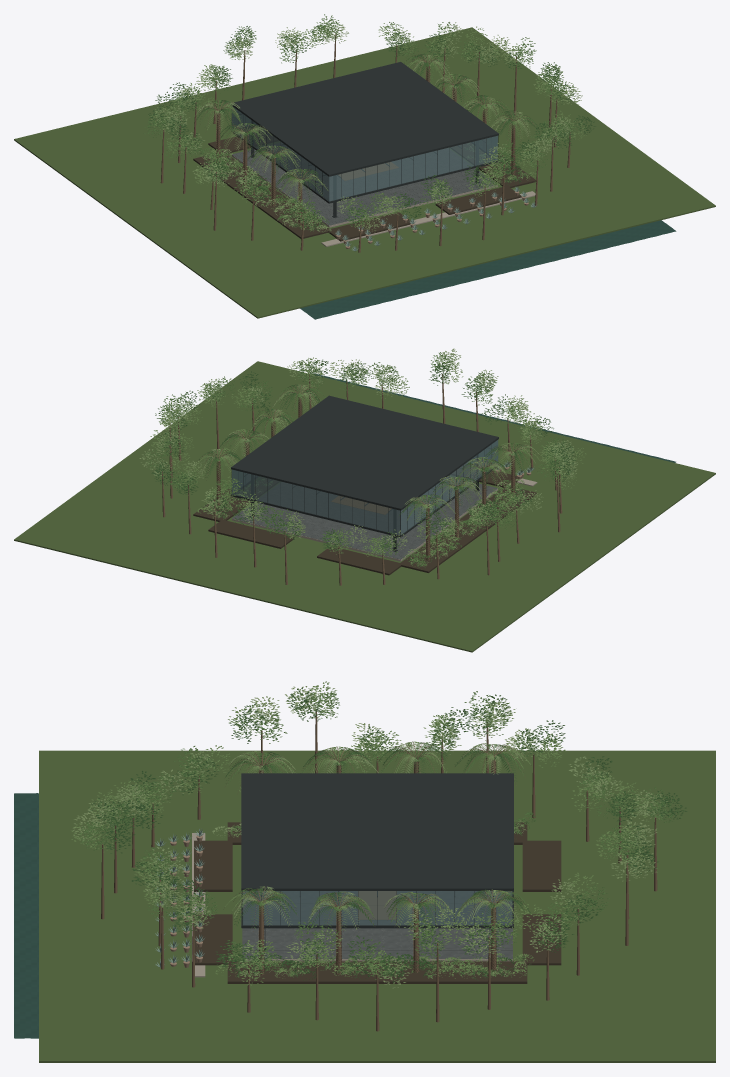
The model's file is benavento-terrace-detailed.glb.
The picture shows the model from 3 angles, top to bottom: view 1: azimuth 30°, elevation 25°; view 2: azimuth 150°, elevation 25°; view 3: azimuth 270°, elevation 25°; orthographic projection. The views are drawn at different scales.
Visible parts, largest first — view 1: Lawn and planting beds, Roof skin, Grey marble slab floor, Palm and fern foliage 3, Palm and fern foliage 1, Palm and fern foliage 2, Palm and fern foliage 0, Smoked glass panels, Planting bed soil, Rippled lake surface, Date palms bark, Columns and perimeter I-sections (+3 smaller); view 2: Lawn and planting beds, Roof skin, Grey marble slab floor, Palm and fern foliage 1, Palm and fern foliage 2, Palm and fern foliage 3, Palm and fern foliage 0, Smoked glass panels, Planting bed soil, Date palms bark, Columns and perimeter I-sections, Rippled lake surface (+1 smaller); view 3: Lawn and planting beds, Roof skin, Palm and fern foliage 2, Palm and fern foliage 0, Planting bed soil, Palm and fern foliage 1, Palm and fern foliage 3, Grey marble slab floor, Date palms bark, Smoked glass panels, Rippled lake surface, Columns and perimeter I-sections (+4 smaller).
Part boxes in pixels (x1,y1,x2,y2): Lawn and planting beds: (14, 27, 715, 318); Roof skin: (232, 62, 498, 175); Grey marble slab floor: (232, 142, 495, 225); Palm and fern foliage 3: (155, 22, 582, 233); Palm and fern foliage 1: (144, 14, 578, 230); Palm and fern foliage 2: (148, 20, 586, 231); Palm and fern foliage 0: (148, 25, 595, 231); Smoked glass panels: (232, 106, 497, 201); Planting bed soil: (193, 130, 536, 241); Rippled lake surface: (300, 220, 676, 319); Date palms bark: (160, 34, 570, 252); Columns and perimeter I-sections: (231, 104, 498, 217); Lawn and planting beds: (14, 361, 715, 652); Roof skin: (231, 395, 498, 508); Grey marble slab floor: (232, 477, 497, 559); Palm and fern foliage 1: (144, 352, 573, 568); Palm and fern foliage 2: (150, 351, 586, 565); Palm and fern foliage 3: (139, 348, 577, 566); Palm and fern foliage 0: (151, 359, 578, 567); Smoked glass panels: (232, 440, 498, 534); Planting bed soil: (193, 464, 536, 575); Date palms bark: (162, 374, 562, 585); Columns and perimeter I-sections: (231, 437, 498, 551); Rippled lake surface: (315, 373, 675, 462); Lawn and planting beds: (39, 750, 715, 1062); Roof skin: (241, 773, 513, 888); Palm and fern foliage 2: (71, 681, 665, 985); Palm and fern foliage 0: (88, 688, 687, 982); Planting bed soil: (194, 822, 561, 983); Palm and fern foliage 1: (79, 691, 684, 979); Palm and fern foliage 3: (72, 686, 667, 988); Grey marble slab floor: (242, 891, 512, 958); Date palms bark: (101, 711, 657, 1031); Smoked glass panels: (242, 891, 512, 925); Rippled lake surface: (14, 793, 38, 1038); Columns and perimeter I-sections: (241, 774, 513, 950).
Bounding box in the file's own units: 76 × 13.65 × 72.6.
Materials: 15 (1 with a texture image).
